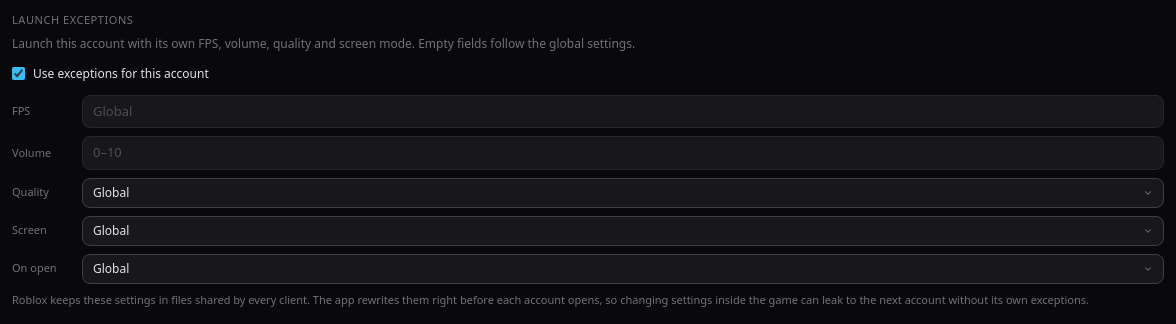
Test case: AccountLaunchOverrides › um número malformado aparece como foi entendido, não como foi digitado
In the field named "Volume": (623, 153) [82, 136, 1164, 170], type "1.2.3"
Then press Enter
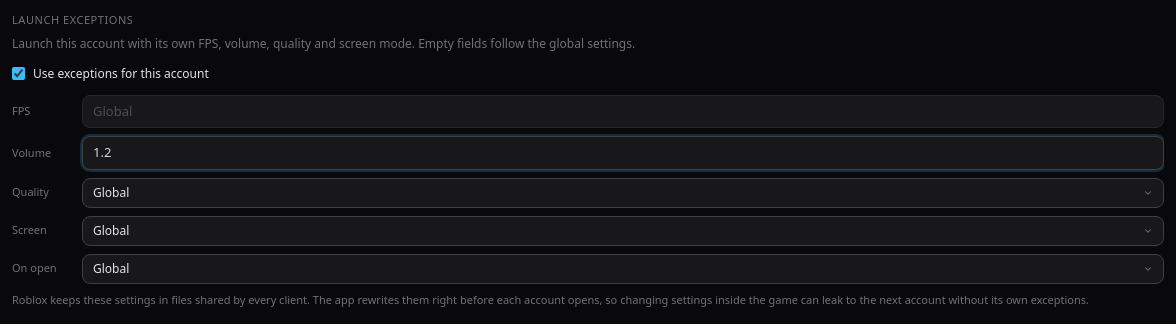
Check: the field named "Volume" holds "1.2", box [82, 136, 1164, 170]
